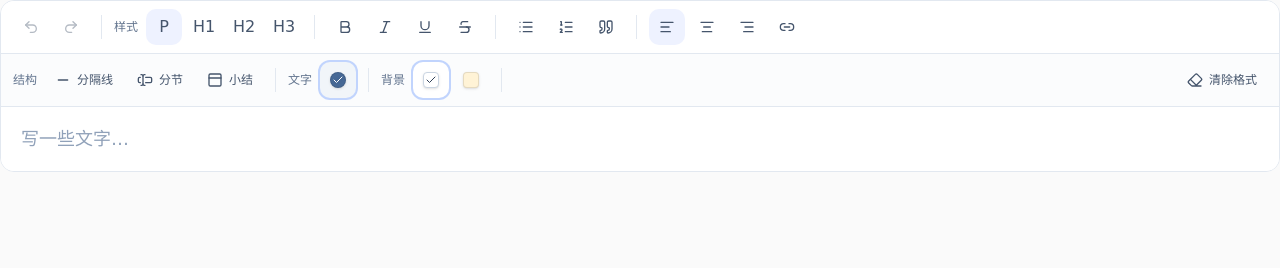
shared simple editor › validates a titled section before insertion
This screenshot has width=1280, height=268.
Click the button with aria-label "插入带标题分节" at (160, 80), box [127, 62, 193, 98]
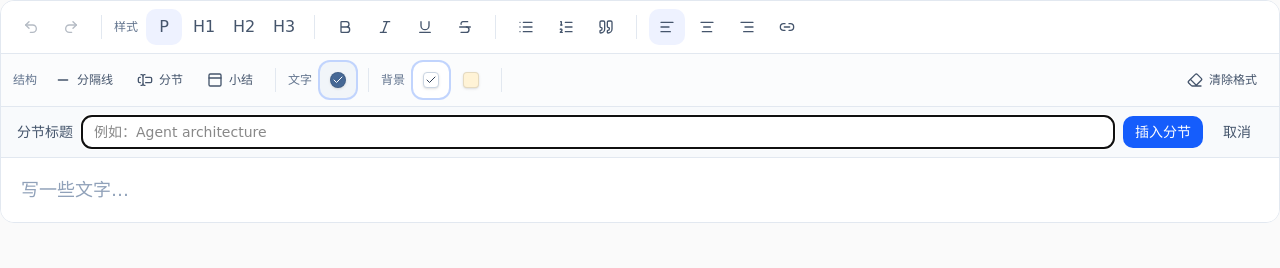
Click the button "插入分节" at (1163, 132), box [1123, 116, 1203, 148]
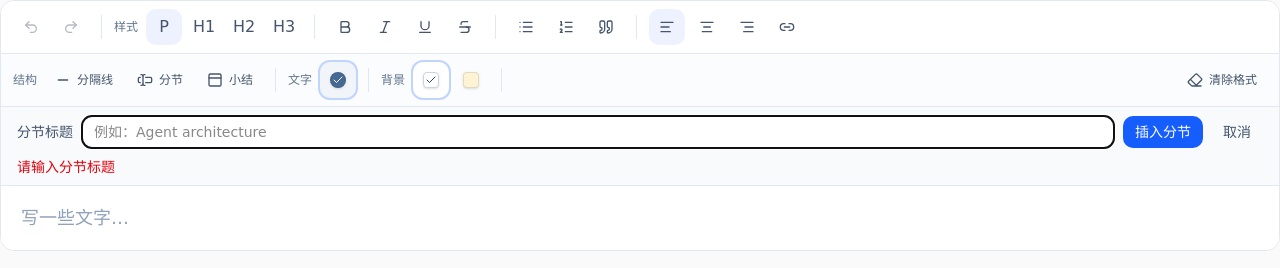
Expected: the message reads "请输入分节标题", [17, 159, 115, 175]
